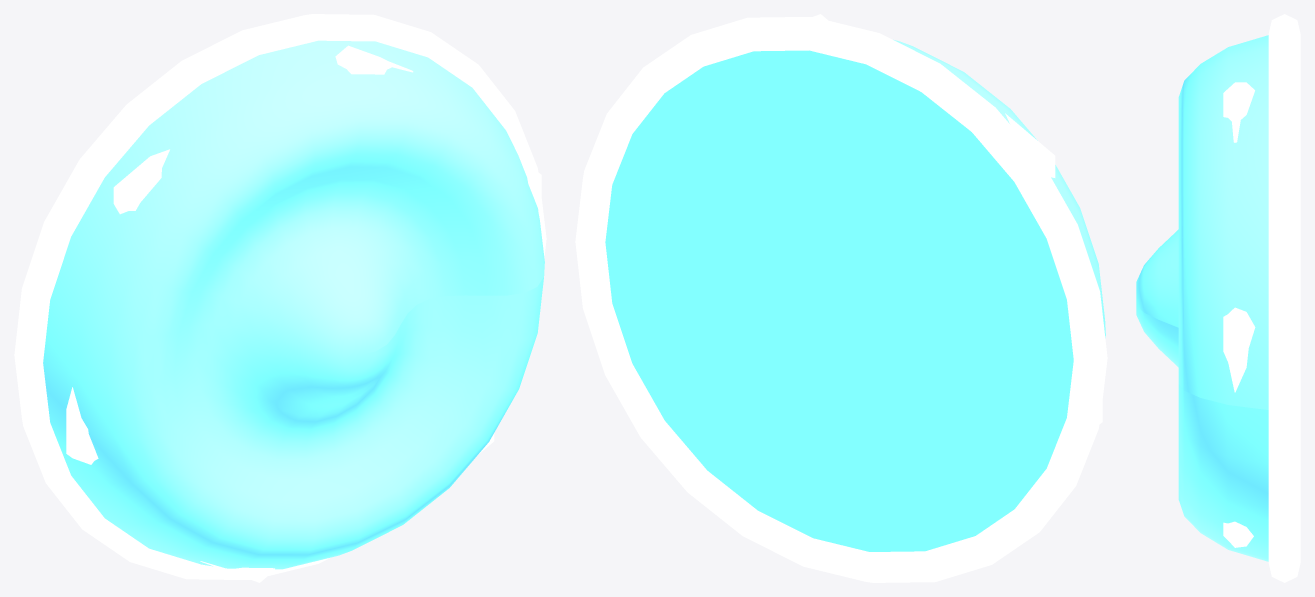
File: vfx-mesh-library-shield-ripple-dome-99bc3e97__21856.glb
The picture shows the model from 3 angles, left to right: view 1: azimuth 30°, elevation 25°; view 2: azimuth 150°, elevation 25°; view 3: azimuth 270°, elevation 25°; orthographic projection. The views are drawn at different scales.
Parts seen in each view (by area): view 1: shield-ripple-dome; view 2: shield-ripple-dome; view 3: shield-ripple-dome.
Part boxes in pixels (x1,y1,x2,y2): shield-ripple-dome: (14, 14, 546, 582); shield-ripple-dome: (575, 14, 1107, 582); shield-ripple-dome: (1136, 14, 1300, 582).
Size of the model in its own units: 0.976 by 0.9689 by 0.2808.
